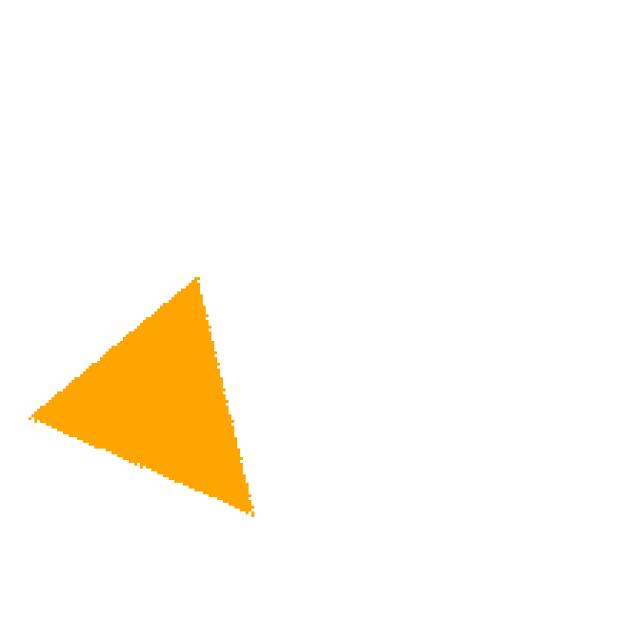Triangle: (29, 246, 317, 571)
